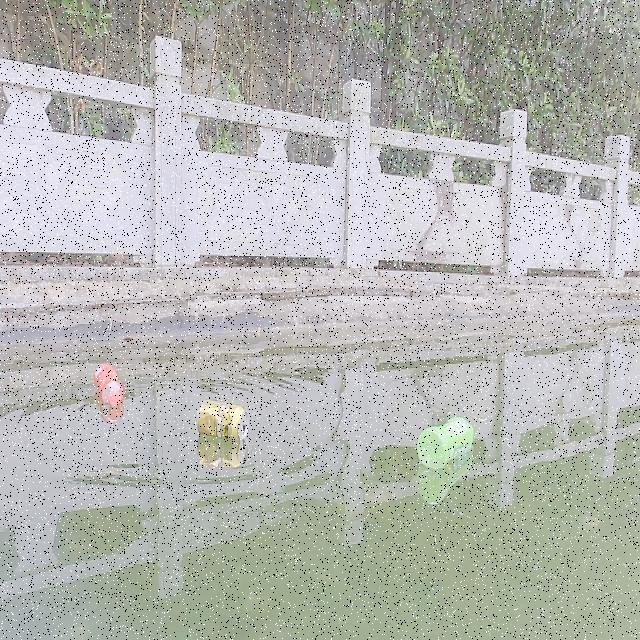Bottle: (415, 414, 477, 469), (93, 360, 123, 407)
Can: (195, 395, 248, 441)
